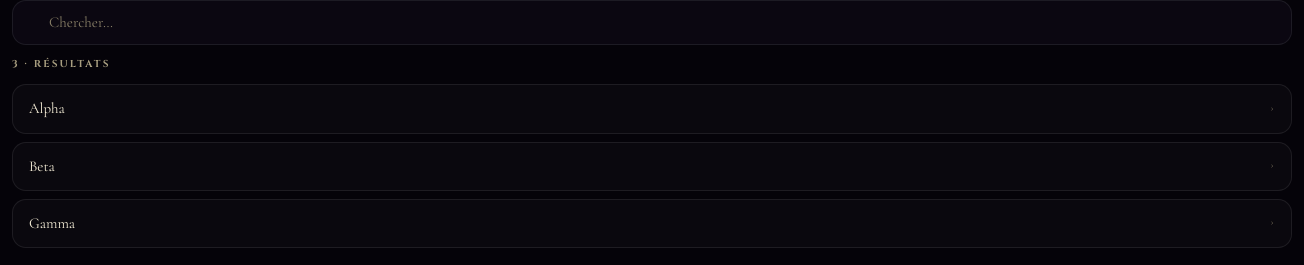
Test case: TextEntityBrowser (Codex) › filtre par recherche et bascule au singulier
In the field with placeholder "Chercher…": coordinates (664, 23) top-left (49, 11), bottom-right (1279, 34), type "première"
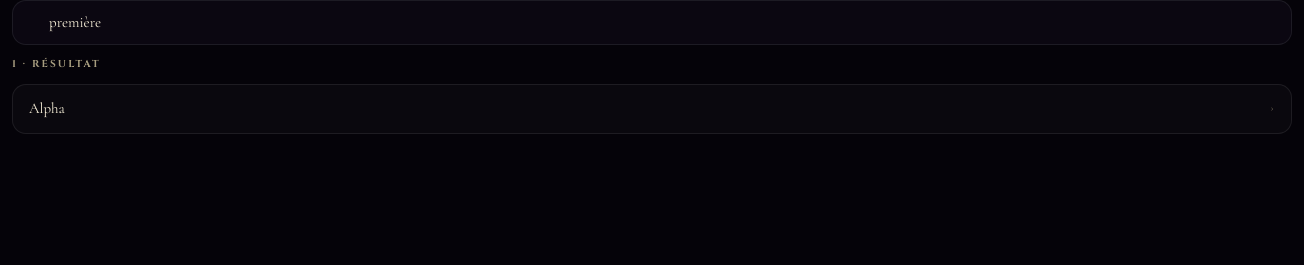
Expected: the text "Alpha" is shown, top-left (29, 99), bottom-right (65, 117)
Result: the button "Beta" is gone
Result: the text "1 · résultat" is shown at top-left (12, 57), bottom-right (101, 71)
